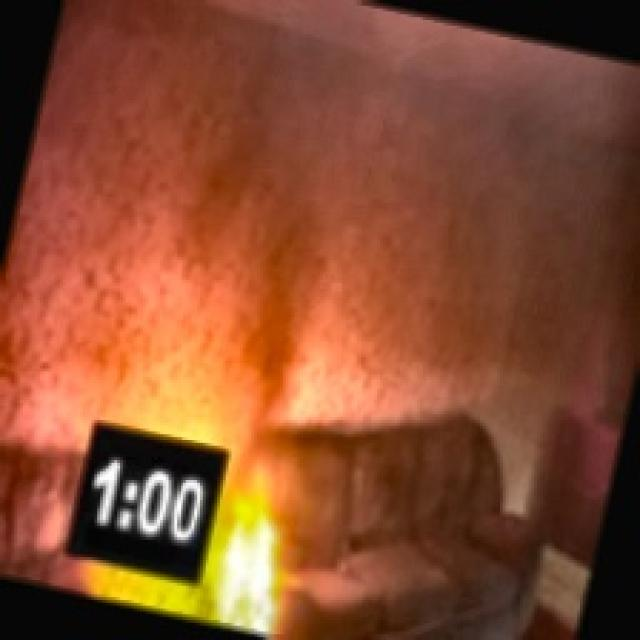fire: (202, 486, 298, 631)
